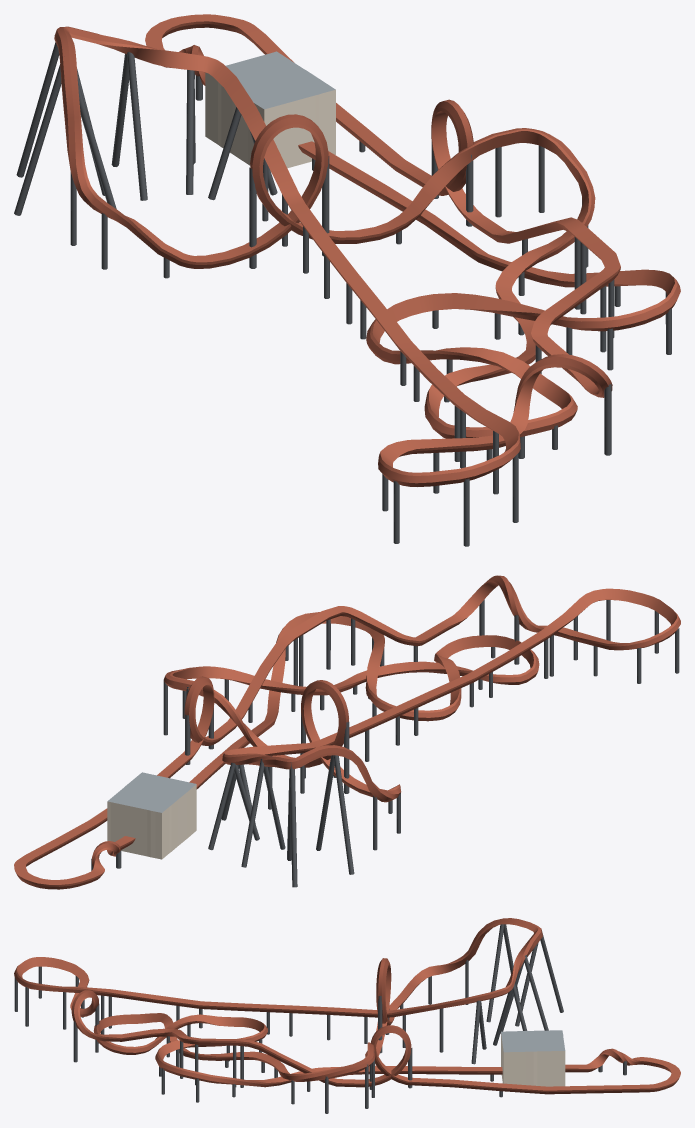
File: carowinds-copperhead-strike.glb
3 views of the same model, one above another, from view 1: azimuth 30°, elevation 25°; view 2: azimuth 150°, elevation 25°; view 3: azimuth 270°, elevation 25° (orthographic). The views are drawn at different scales.
Parts seen in each view (by area): view 1: Copperhead Strike; view 2: Copperhead Strike; view 3: Copperhead Strike.
Boxes of the visible parts, x1,y1,x2,y2 form: Copperhead Strike: (14,14,680,546); Copperhead Strike: (14,575,680,889); Copperhead Strike: (14,918,680,1113).
Size of the model in its own units: 77.17 by 29.65 by 175.
